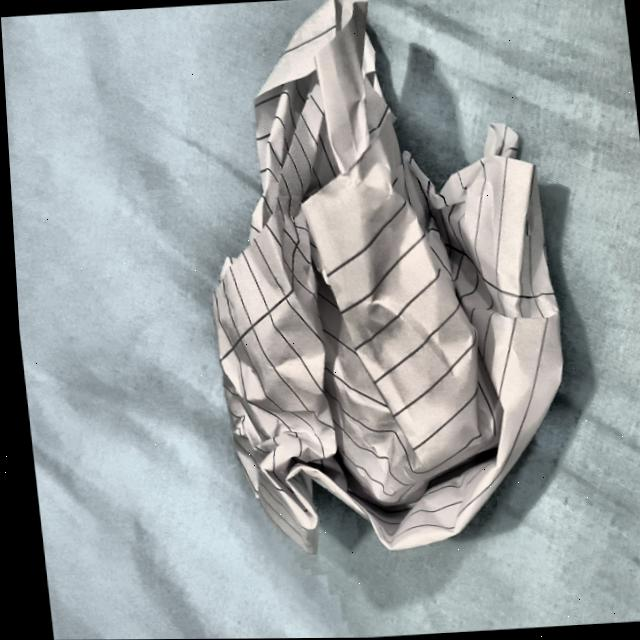paper: (175, 0, 589, 562)
